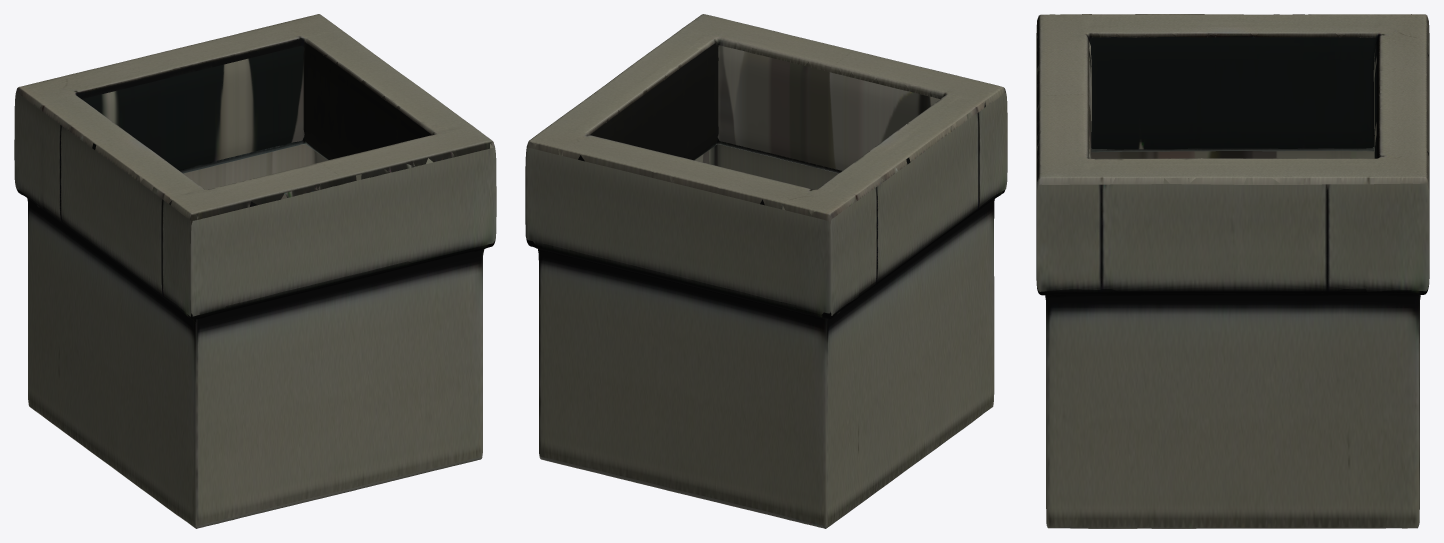
File: roof-skylight.glb
3 renders of one model, left to right at view 1: azimuth 30°, elevation 25°; view 2: azimuth 150°, elevation 25°; view 3: azimuth 270°, elevation 25°, orthographic. The views are drawn at different scales.
Parts seen in each view (by area): view 1: tmpgu3tks7x.ply; view 2: tmpgu3tks7x.ply; view 3: tmpgu3tks7x.ply.
Boxes of the visible parts, x1=… form: tmpgu3tks7x.ply: x1=14, y1=14, x2=496, y2=528; tmpgu3tks7x.ply: x1=525, y1=14, x2=1007, y2=528; tmpgu3tks7x.ply: x1=1036, y1=14, x2=1429, y2=528.
Size of the model in its own units: 1 by 1 by 1.
1 material, 1 textured.
